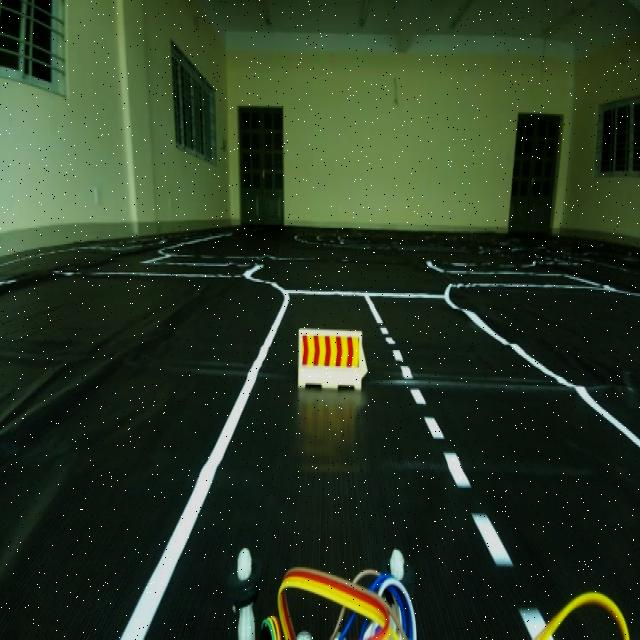roadblock: (292, 313, 376, 420)
